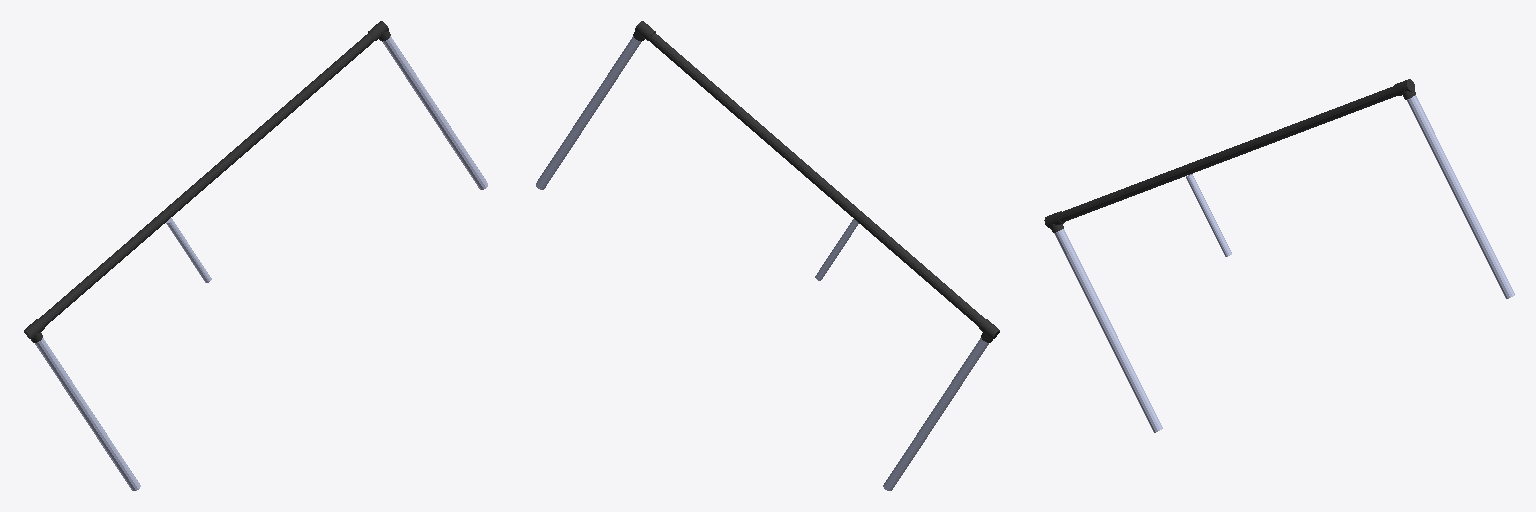
robot.urdf — Gate_URDF_NEW:
<?xml version="1.0" encoding="utf-8"?>
<!-- This URDF was automatically created by SolidWorks to URDF Exporter! Originally created by Stephen Brawner ([email redacted]) 
     Commit Version: 1.5.0-0-g9aa0fdb  Build Version: 1.5.7004.21443
     For more information, please see http://wiki.ros.org/sw_urdf_exporter -->
<robot
  name="Gate_URDF_NEW">
  <link
    name="base_link">
    <inertial>
      <origin
        xyz="0.168322864208956 -2.1192209241693 2.20919586667273"
        rpy="0 0 0" />
      <mass
        value="12.801733573456" />
      <inertia
        ixx="2.52655639008521"
        ixy="3.91009741138073E-10"
        ixz="-4.22941253318381"
        iyy="9.63160274761318"
        iyz="2.3275950760761E-10"
        izz="7.11378358707341" />
    </inertial>
    <visual>
      <origin
        xyz="0 0 0"
        rpy="0 0 0" />
      <geometry>
        <mesh
          filename="package://Gate_URDF_NEW/meshes/base_link.STL" />
      </geometry>
      <material
        name="">
        <color
          rgba="0.250980392156863 0.250980392156863 0.250980392156863 1" />
      </material>
    </visual>
    <collision>
      <origin
        xyz="0 0 0"
        rpy="0 0 0" />
      <geometry>
        <mesh
          filename="package://Gate_URDF_NEW/meshes/base_link.STL" />
      </geometry>
    </collision>
  </link>
  <link
    name="Left">
    <inertial>
      <origin
        xyz="-1.72084568816899E-15 0.7625 -7.105427357601E-15"
        rpy="0 0 0" />
      <mass
        value="6.20904372055487" />
      <inertia
        ixx="1.20533733871674"
        ixy="-3.29366482151843E-34"
        ixz="-6.52530446799852E-52"
        iyy="0.00402346033091955"
        iyz="1.40026273599015E-33"
        izz="1.20533733871674" />
    </inertial>
    <visual>
      <origin
        xyz="0 0 0"
        rpy="0 0 0" />
      <geometry>
        <mesh
          filename="package://Gate_URDF_NEW/meshes/Left.STL" />
      </geometry>
      <material
        name="">
        <color
          rgba="0.792156862745098 0.819607843137255 0.933333333333333 1" />
      </material>
    </visual>
    <collision>
      <origin
        xyz="0 0 0"
        rpy="0 0 0" />
      <geometry>
        <mesh
          filename="package://Gate_URDF_NEW/meshes/Left.STL" />
      </geometry>
    </collision>
  </link>
  <joint
    name="Left"
    type="continuous">
    <origin
      xyz="-0.387916034858449 -2.1192209241693 0.0175757150527073"
      rpy="1.5707963267949 -0.536941728756498 0" />
    <parent
      link="base_link" />
    <child
      link="Left" />
    <axis
      xyz="0 1 0" />
    <safety_controller
      k_velocity="0" />
  </joint>
  <link
    name="Middle">
    <inertial>
      <origin
        xyz="-6.32827124036339E-15 0.3048 -1.77635683940025E-15"
        rpy="0 0 0" />
      <mass
        value="1.23555551703134" />
      <inertia
        ixx="0.038461570623003"
        ixy="-1.8485162729718E-35"
        ixz="0"
        iyy="0.000398565498683969"
        iyz="6.54920110171591E-35"
        izz="0.038461570623003" />
    </inertial>
    <visual>
      <origin
        xyz="0 0 0"
        rpy="0 0 0" />
      <geometry>
        <mesh
          filename="package://Gate_URDF_NEW/meshes/Middle.STL" />
      </geometry>
      <material
        name="">
        <color
          rgba="0.792156862745098 0.819607843137255 0.933333333333333 1" />
      </material>
    </visual>
    <collision>
      <origin
        xyz="0 0 0"
        rpy="0 0 0" />
      <geometry>
        <mesh
          filename="package://Gate_URDF_NEW/meshes/Middle.STL" />
      </geometry>
    </collision>
  </link>
  <joint
    name="Middle"
    type="fixed">
    <origin
      xyz="0.171988973006556 -2.13896595145136 1.46041339340233"
      rpy="1.5707963267949 -0.536941728756498 0" />
    <parent
      link="base_link" />
    <child
      link="Middle" />
    <axis
      xyz="0 0 0" />
    <safety_controller
      k_velocity="0" />
  </joint>
  <link
    name="Right">
    <inertial>
      <origin
        xyz="-2.22044604925031E-15 0.7625 -7.80220332785575E-12"
        rpy="0 0 0" />
      <mass
        value="6.20904372055487" />
      <inertia
        ixx="1.20533733871674"
        ixy="4.2453167721409E-15"
        ixz="-4.34385773452136E-26"
        iyy="0.00402346033091955"
        iyz="1.2291990986631E-11"
        izz="1.20533733871674" />
    </inertial>
    <visual>
      <origin
        xyz="0 0 0"
        rpy="0 0 0" />
      <geometry>
        <mesh
          filename="package://Gate_URDF_NEW/meshes/Right.STL" />
      </geometry>
      <material
        name="">
        <color
          rgba="0.792156862745098 0.819607843137255 0.933333333333333 1" />
      </material>
    </visual>
    <collision>
      <origin
        xyz="0 0 0"
        rpy="0 0 0" />
      <geometry>
        <mesh
          filename="package://Gate_URDF_NEW/meshes/Right.STL" />
      </geometry>
    </collision>
  </link>
  <joint
    name="Right"
    type="continuous">
    <origin
      xyz="2.36005192355092 -2.11922092418566 1.65338624795541"
      rpy="1.5707963267949 -0.536941728756498 0" />
    <parent
      link="base_link" />
    <child
      link="Right" />
    <axis
      xyz="0 1 0" />
    <safety_controller
      k_velocity="0" />
  </joint>
</robot>

--- Render facts (derived) ---
Views: 3 orthographic renders of the robot side by side, from view 1: azimuth 30°, elevation 25°; view 2: azimuth 150°, elevation 25°; view 3: azimuth 330°, elevation 25°.
Model Gate_URDF_NEW with 4 links and 3 joints (2 continuous, 1 fixed), rooted at base_link, posed all joints at 0.
Links seen in each view (by area): view 1: base_link, Left, Right, Middle; view 2: base_link, Left, Right; view 3: base_link, Left, Right, Middle.
Boxes of the visible links, x1,y1,x2,y2 form: base_link: [24, 21, 390, 342]; Left: [35, 338, 140, 490]; Right: [383, 36, 487, 189]; Middle: [166, 218, 211, 282]; base_link: [633, 21, 999, 342]; Left: [883, 338, 988, 490]; Right: [536, 36, 640, 189]; base_link: [1044, 79, 1415, 232]; Left: [1054, 229, 1162, 432]; Right: [1407, 95, 1514, 298]; Middle: [1186, 174, 1231, 256].
Bounding box of the posed robot: 3.66 × 0.0882 × 3.09 m (x, y, z).
Meshes: 4 distinct files referenced, 4 mesh visuals loaded (4 binary STL).
